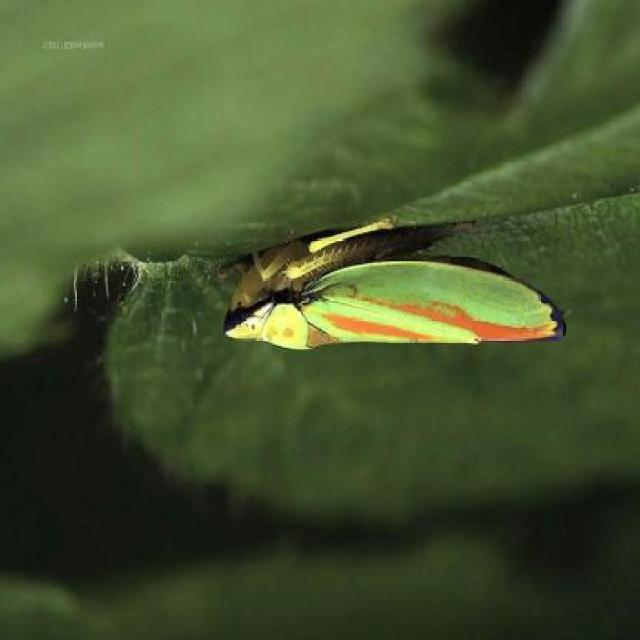green-leafhopper: (220, 238, 566, 374)
